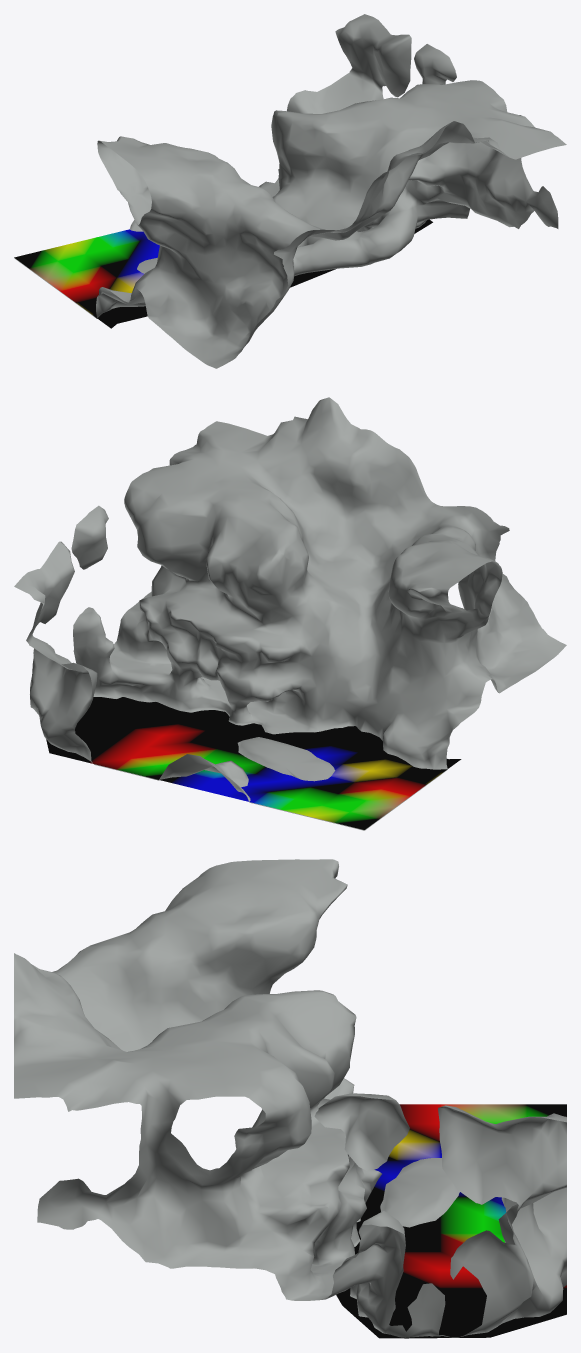
The picture shows the model from 3 angles, top to bottom: view 1: azimuth 30°, elevation 25°; view 2: azimuth 150°, elevation 25°; view 3: azimuth 270°, elevation 25°; orthographic projection. The views are drawn at different scales.
Parts seen in each view (by area): view 1: G:\FFXIV-MapTools\exports\l1f1\bg\ffxiv\lak_l1\fld\l1f1\bgpl (×12); view 2: G:\FFXIV-MapTools\exports\l1f1\bg\ffxiv\lak_l1\fld\l1f1\bgpl (×16); view 3: G:\FFXIV-MapTools\exports\l1f1\bg\ffxiv\lak_l1\fld\l1f1\bgpl (×15).
Part boxes in pixels (<box>): G:\FFXIV-MapTools\exports\l1f1\bg\ffxiv\lak_l1\fld\l1f1\bgpl (×12): <box>14,14,566,368</box>; G:\FFXIV-MapTools\exports\l1f1\bg\ffxiv\lak_l1\fld\l1f1\bgpl (×16): <box>14,397,566,830</box>; G:\FFXIV-MapTools\exports\l1f1\bg\ffxiv\lak_l1\fld\l1f1\bgpl (×15): <box>14,859,566,1338</box>.
Size of the model in its own units: 128 by 79.44 by 128.
